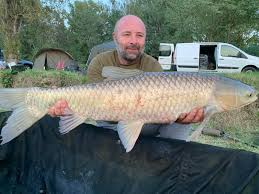carp: (1, 69, 258, 155)
